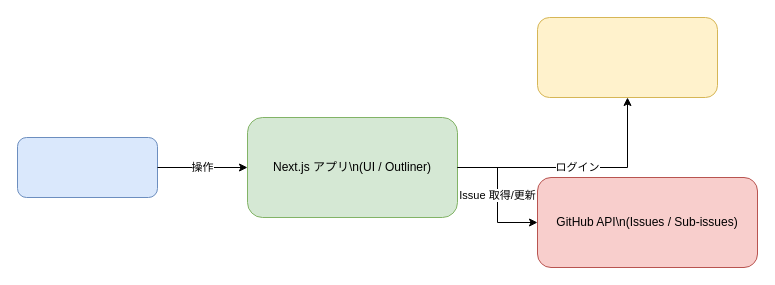
Image size: 775x285. Some labels were removed from this diagram. The centre of each missing label's shape, as x and y in pixels:
"ユーザー" goes at (87,167).
"認証層\n(NextAuth)" goes at (627,57).
